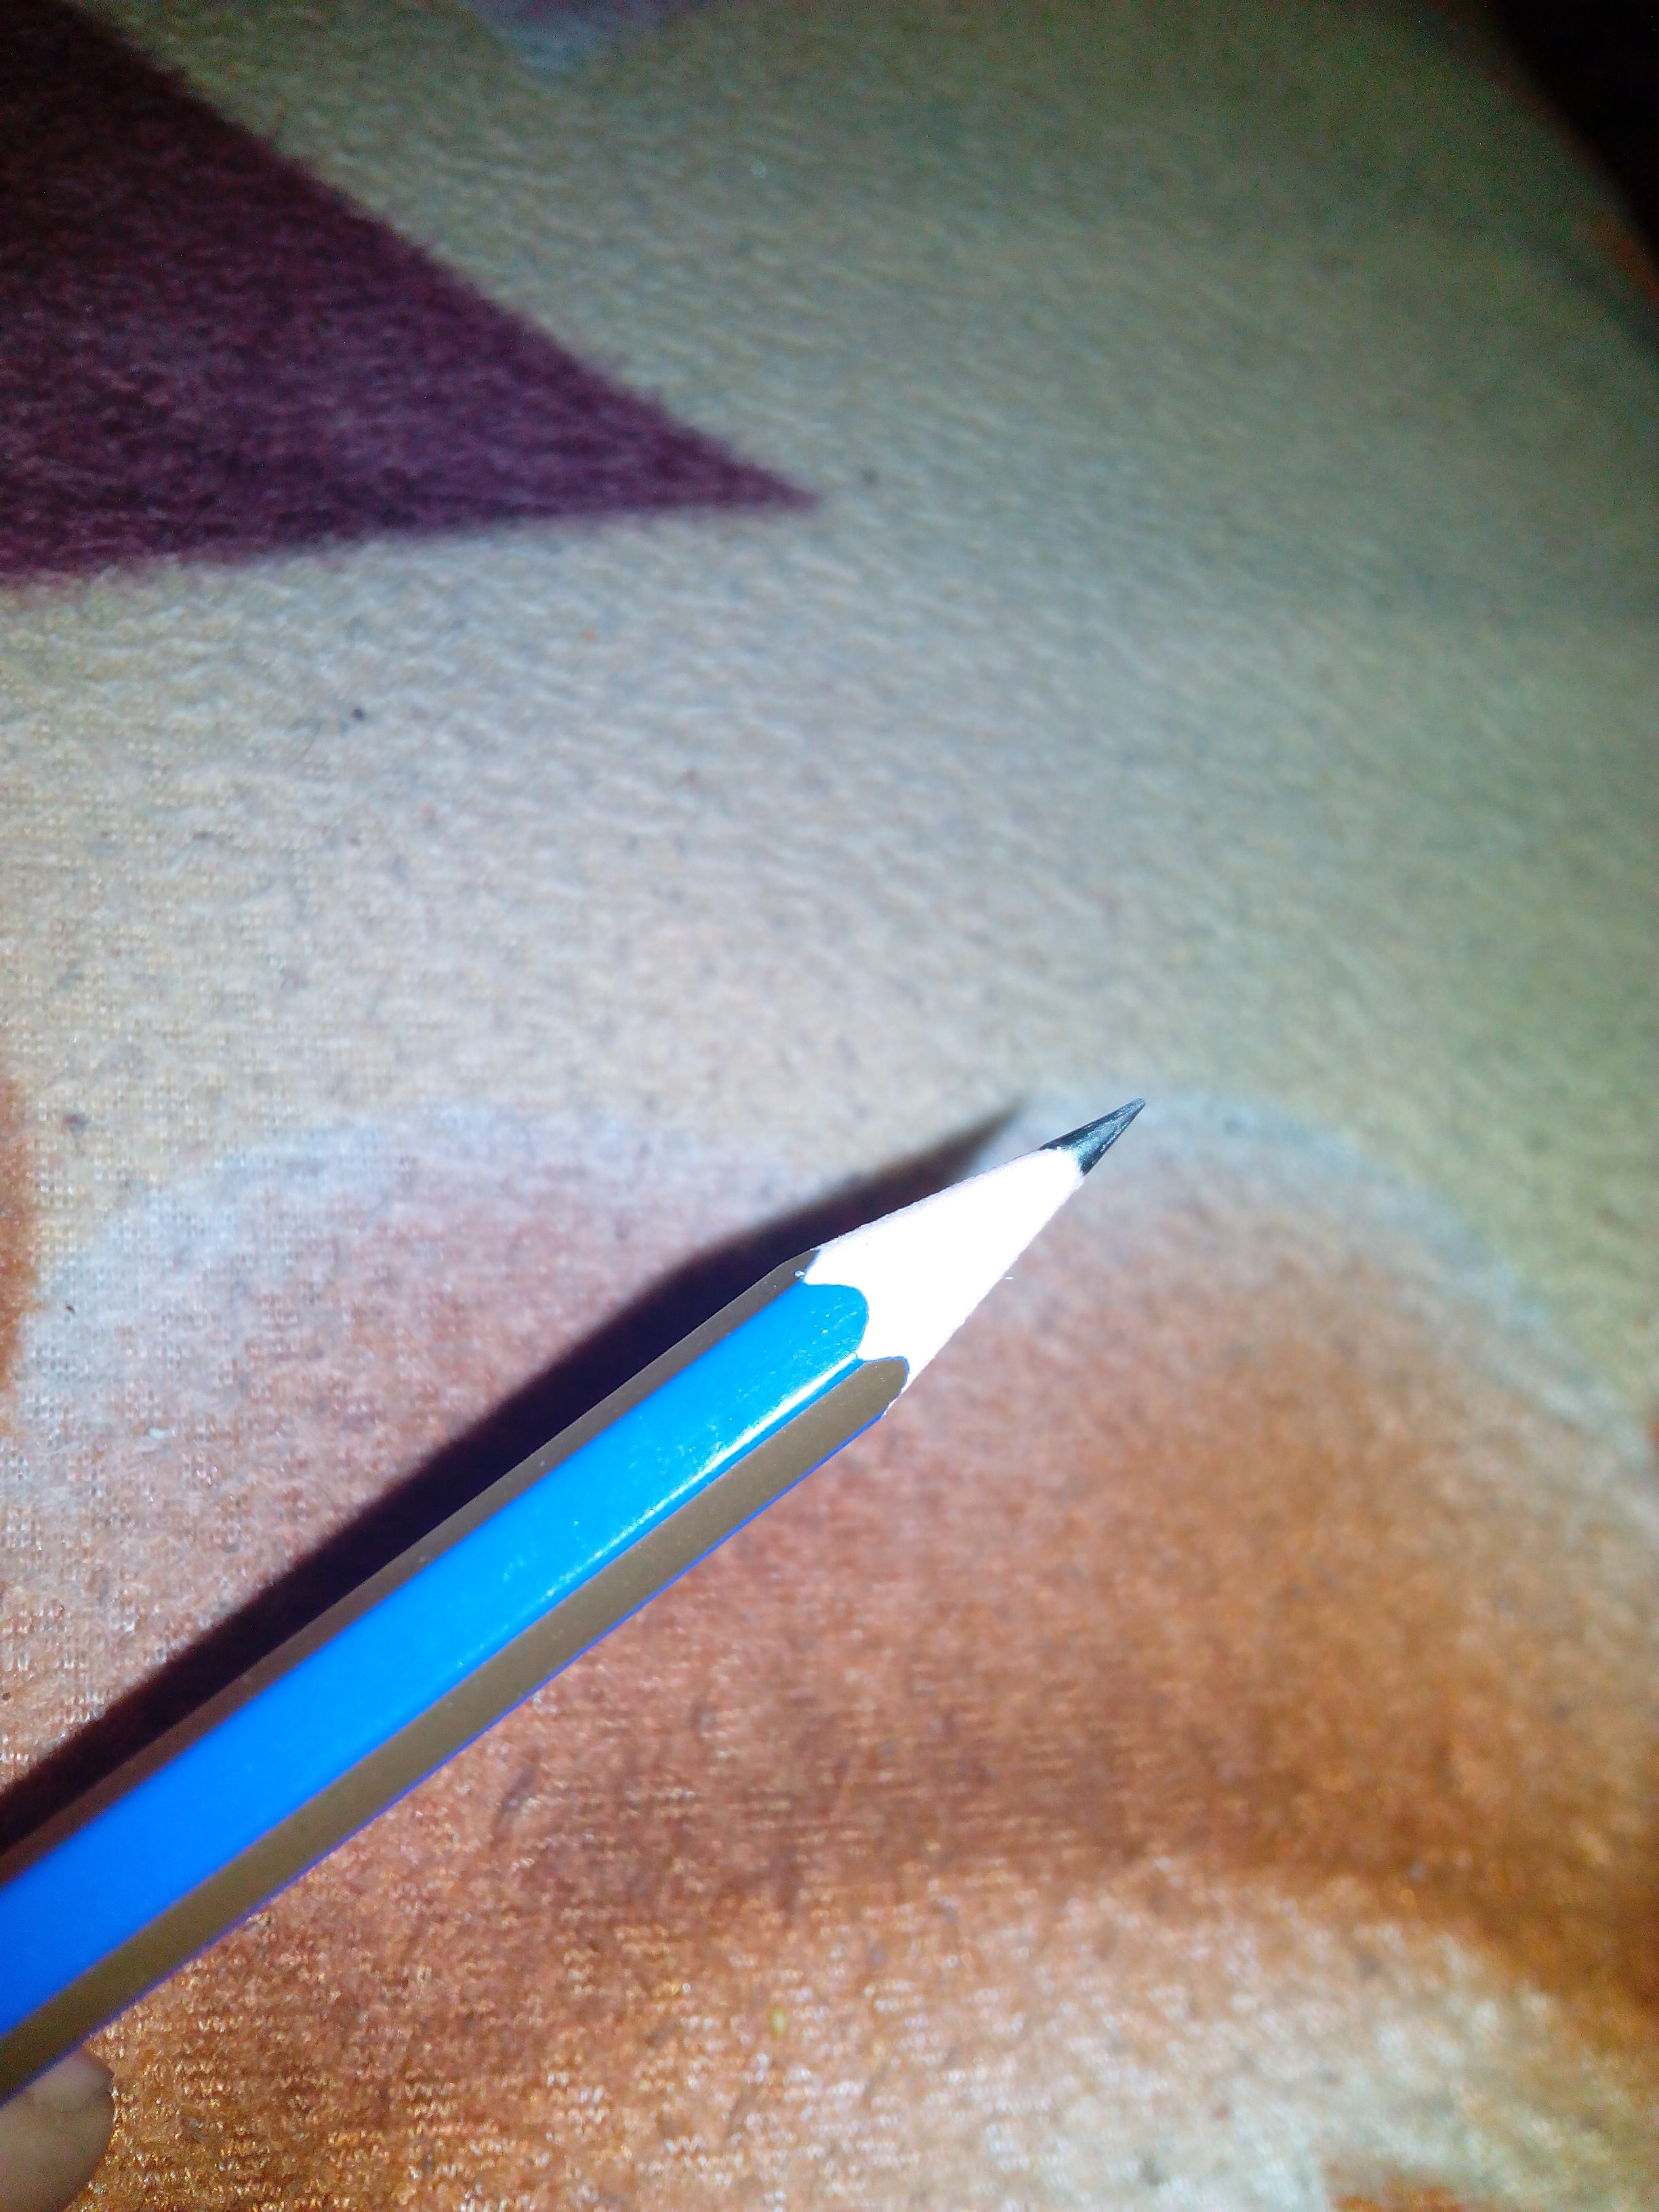pen_tip: (683, 1000, 1272, 1519)
